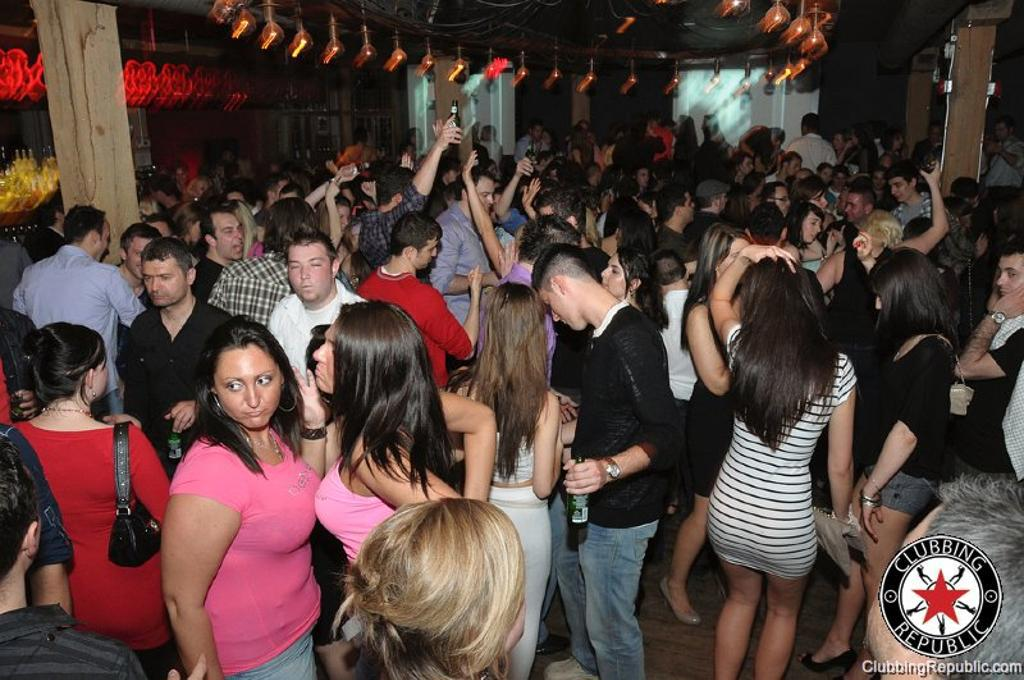face: (215, 356, 282, 427), (289, 252, 333, 302), (314, 331, 349, 393), (540, 284, 582, 332), (144, 263, 187, 307), (874, 287, 912, 325), (213, 222, 245, 259), (601, 262, 630, 299), (543, 208, 576, 239), (129, 243, 157, 278), (999, 262, 1024, 300), (86, 358, 108, 401), (468, 185, 495, 215), (227, 193, 250, 226), (725, 247, 750, 277), (414, 241, 438, 269), (94, 226, 111, 262), (845, 196, 866, 222), (774, 191, 791, 217), (802, 219, 822, 241), (891, 179, 911, 201), (679, 199, 696, 222), (810, 193, 831, 210), (334, 211, 349, 233), (191, 220, 205, 242), (141, 204, 156, 222), (151, 188, 167, 204), (588, 169, 601, 185), (997, 125, 1010, 140), (715, 195, 727, 211), (195, 184, 208, 198), (932, 129, 944, 144), (788, 161, 800, 175), (552, 172, 564, 185), (741, 161, 752, 174), (176, 172, 187, 185), (852, 130, 862, 144), (638, 173, 649, 185), (874, 176, 883, 190), (836, 177, 847, 188), (822, 171, 832, 183), (896, 135, 903, 150), (614, 170, 622, 183), (773, 135, 783, 145), (835, 138, 842, 150), (536, 129, 543, 140), (491, 167, 498, 178), (544, 135, 550, 145), (882, 160, 889, 167), (481, 133, 487, 141), (218, 169, 224, 177)
